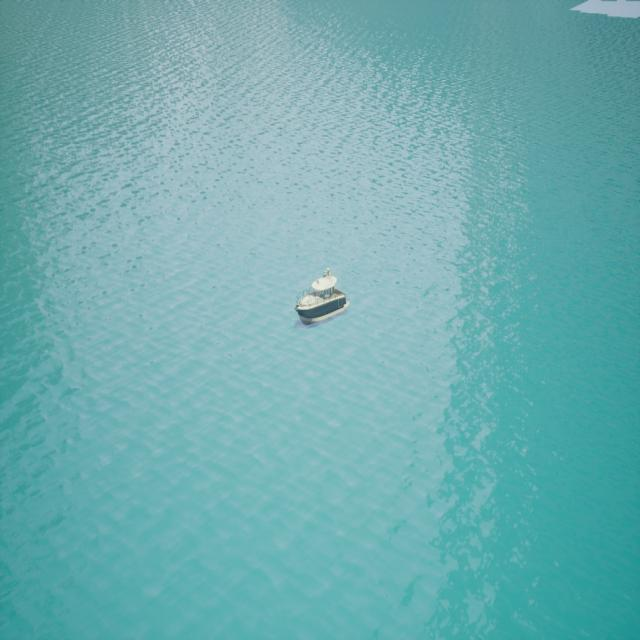ship: (294, 268, 348, 326)
